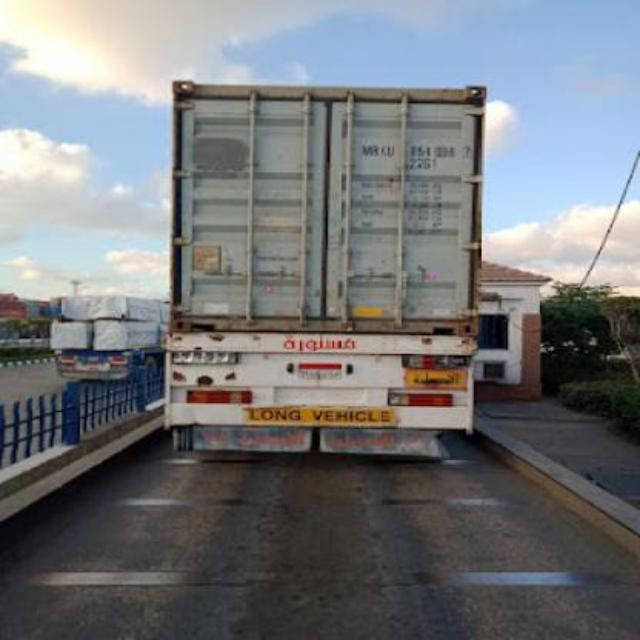1: (432, 141, 440, 159)
3: (404, 136, 414, 158)
4: (422, 142, 430, 154)
5: (416, 140, 422, 156)
7: (462, 141, 470, 159)
8: (448, 141, 454, 159)
9: (440, 139, 448, 157)
K: (378, 141, 386, 159)
M: (360, 138, 370, 158)
R: (370, 141, 378, 159)
U: (386, 141, 396, 159)
